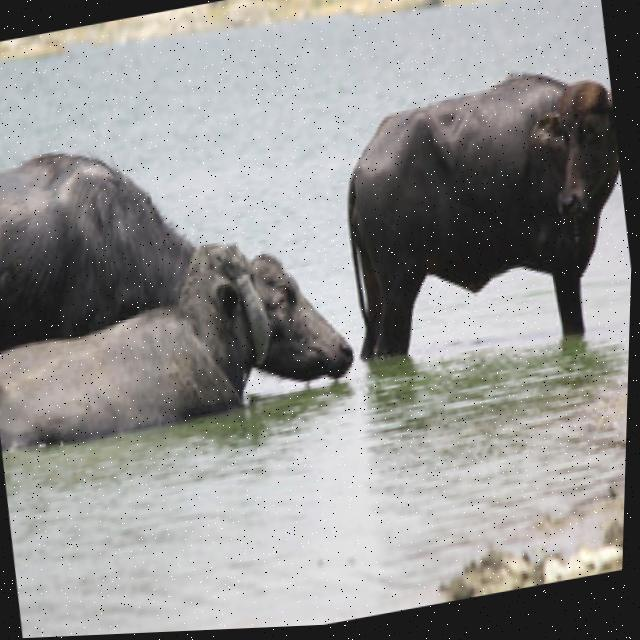Buffalo: (320, 52, 638, 381), (0, 237, 282, 486)
